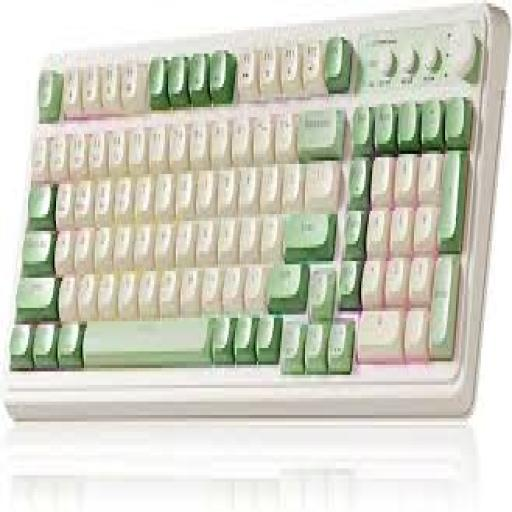keyboard: (5, 3, 509, 418)
